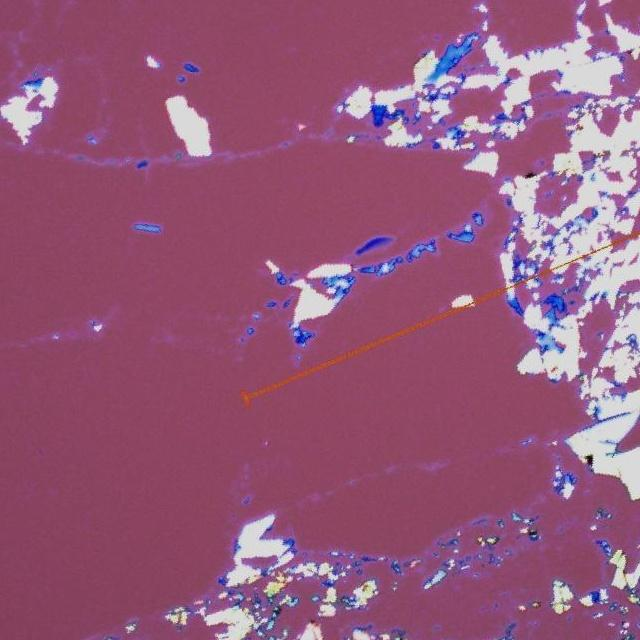monolayer-eWW4: (374, 242, 392, 248)
